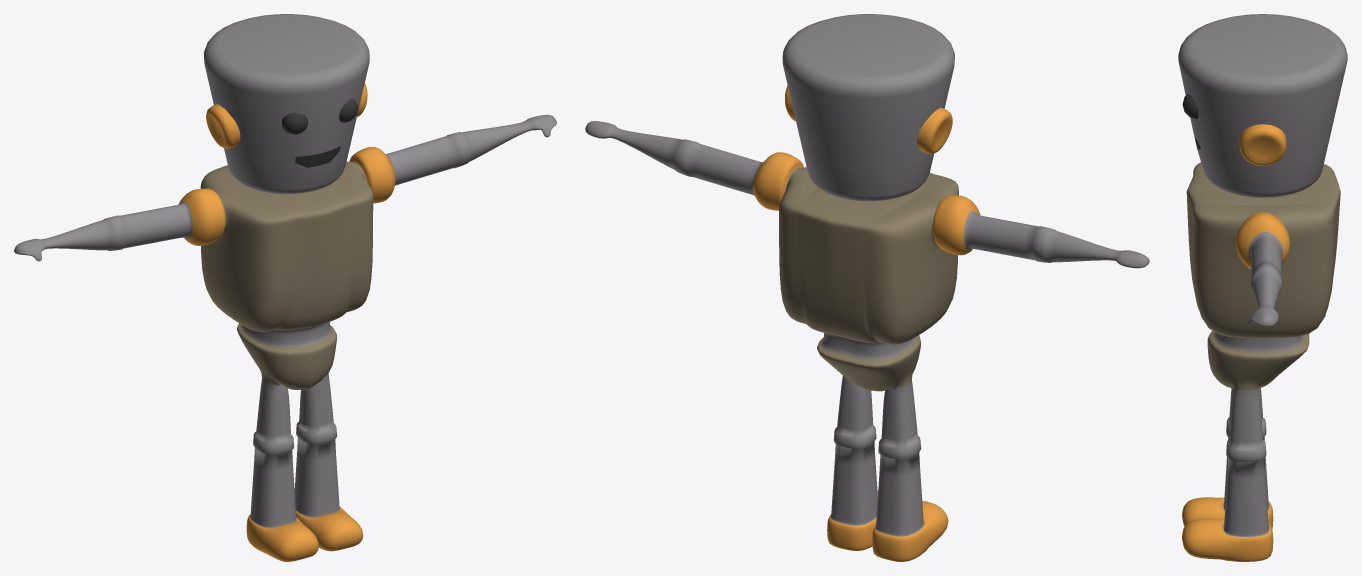
File: Hoppa.fbx
3 renders of one model, left to right at view 1: azimuth 30°, elevation 25°; view 2: azimuth 150°, elevation 25°; view 3: azimuth 270°, elevation 25°, orthographic. The views are drawn at different scales.
Visible parts, largest first — view 1: Cube; view 2: Cube; view 3: Cube.
Boxes of the visible parts, x1=… form: Cube: x1=14, y1=14, x2=556, y2=561; Cube: x1=585, y1=14, x2=1149, y2=561; Cube: x1=1178, y1=14, x2=1347, y2=561.
Bounding box in the file's own units: 206 × 178 × 54.95.
